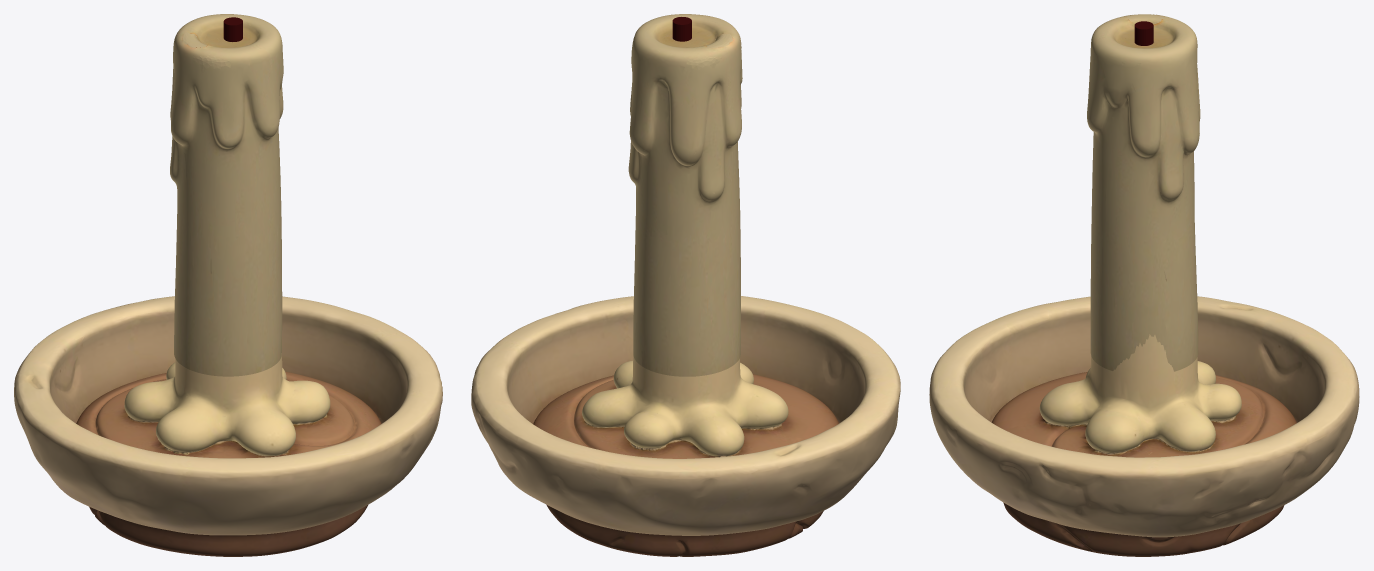
File: candle_7.glb
The picture shows the model from 3 angles, left to right: view 1: azimuth 30°, elevation 25°; view 2: azimuth 150°, elevation 25°; view 3: azimuth 270°, elevation 25°; orthographic projection.
Visible parts, largest first — view 1: tripo_node_5e0af819-02a4-4fc8-b881-2254380dac7f, tripo_node_d504aa78-2d36-4d63-a000-d4e156e20fec; view 2: tripo_node_5e0af819-02a4-4fc8-b881-2254380dac7f, tripo_node_d504aa78-2d36-4d63-a000-d4e156e20fec; view 3: tripo_node_5e0af819-02a4-4fc8-b881-2254380dac7f, tripo_node_d504aa78-2d36-4d63-a000-d4e156e20fec.
Boxes of the visible parts, left/top/right/bottom form: tripo_node_5e0af819-02a4-4fc8-b881-2254380dac7f: left=14, top=296, right=442, bottom=556; tripo_node_d504aa78-2d36-4d63-a000-d4e156e20fec: left=170, top=14, right=283, bottom=376; tripo_node_5e0af819-02a4-4fc8-b881-2254380dac7f: left=471, top=296, right=900, bottom=556; tripo_node_d504aa78-2d36-4d63-a000-d4e156e20fec: left=628, top=14, right=742, bottom=376; tripo_node_5e0af819-02a4-4fc8-b881-2254380dac7f: left=929, top=296, right=1359, bottom=556; tripo_node_d504aa78-2d36-4d63-a000-d4e156e20fec: left=1087, top=14, right=1200, bottom=371.
Bounding box in the file's own units: 0.719 × 0.8831 × 0.7212.
Materials: 4 (3 with a texture image).
